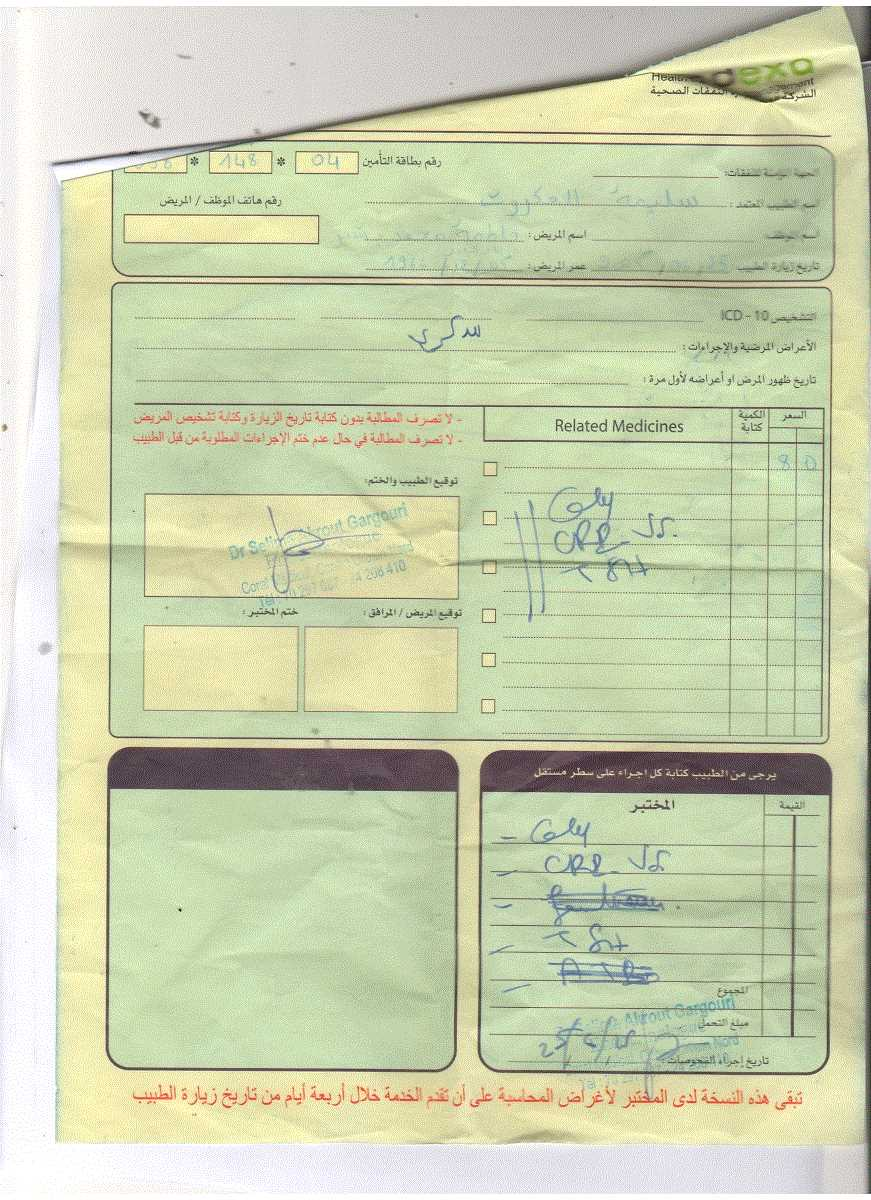zone_analyses: (482, 746, 828, 1080), (505, 454, 714, 669)
zone_cachet: (187, 544, 441, 631)
zone_date: (594, 244, 822, 285)
zone_patient: (332, 215, 589, 283)
zone_prescripteur: (469, 184, 834, 218)
